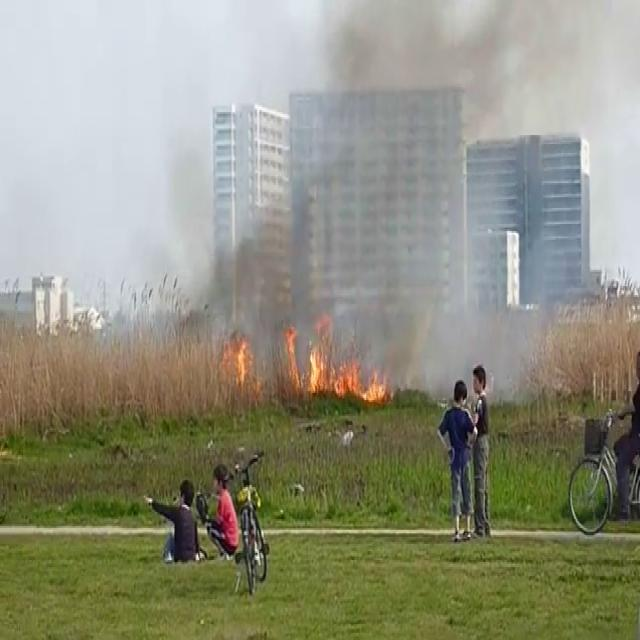Fire: (222, 319, 258, 392)
Smoke: (280, 3, 638, 398)
